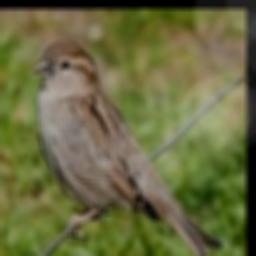Sparrow: (32, 41, 222, 256)
